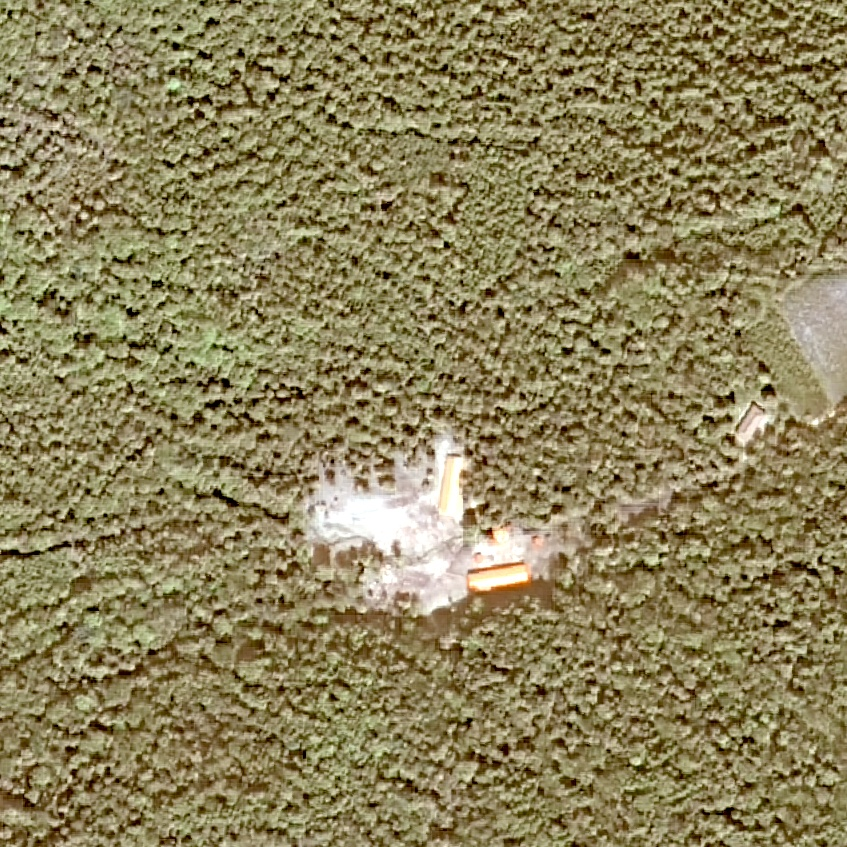slope: (298, 436, 468, 618)
